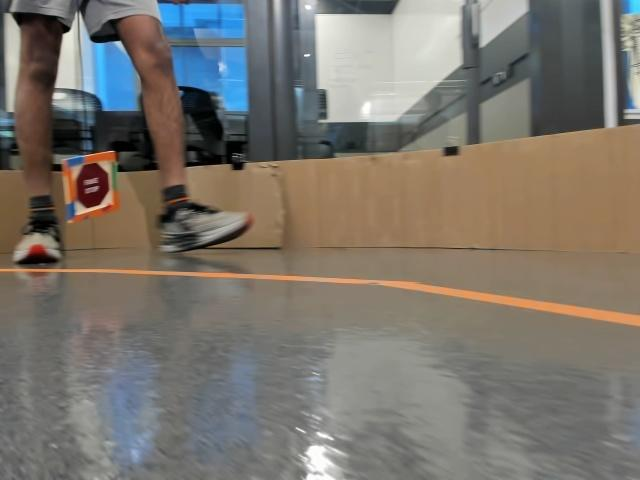Fake Stop: (72, 165, 107, 209)
